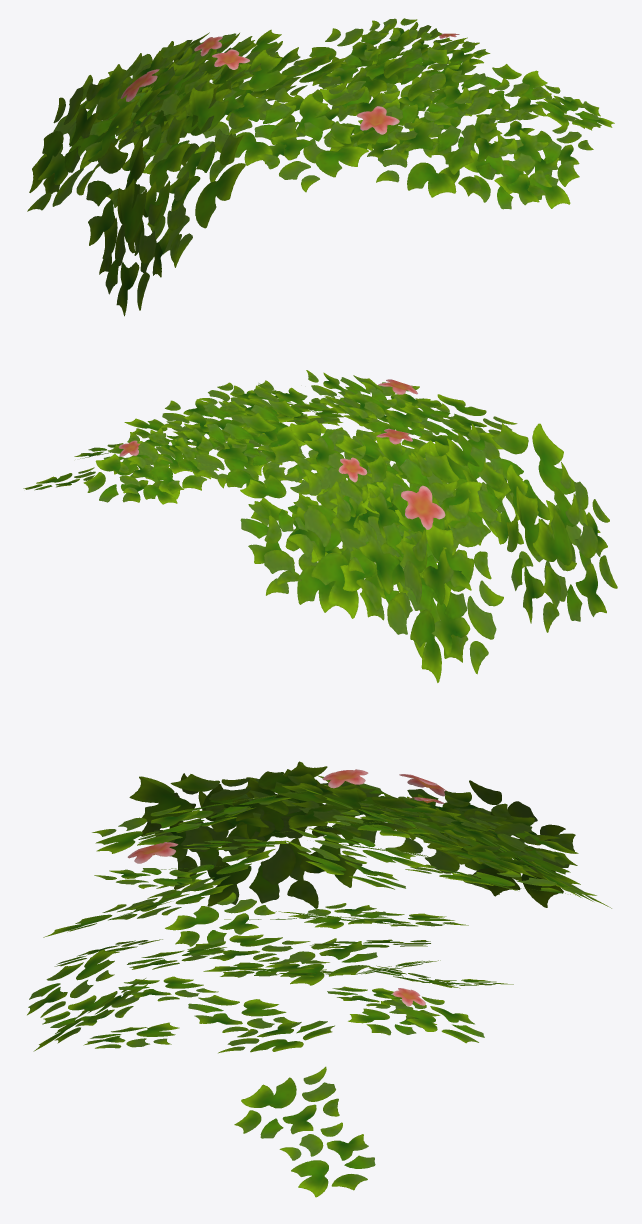
Rendered from P_IvyCoastalCurved01.obj.
3 views of the same model, one above another, from view 1: azimuth 30°, elevation 25°; view 2: azimuth 150°, elevation 25°; view 3: azimuth 270°, elevation 25° (orthographic). The views are drawn at different scales.
Size of the model in its own units: 5.13 by 1.75 by 3.9.
